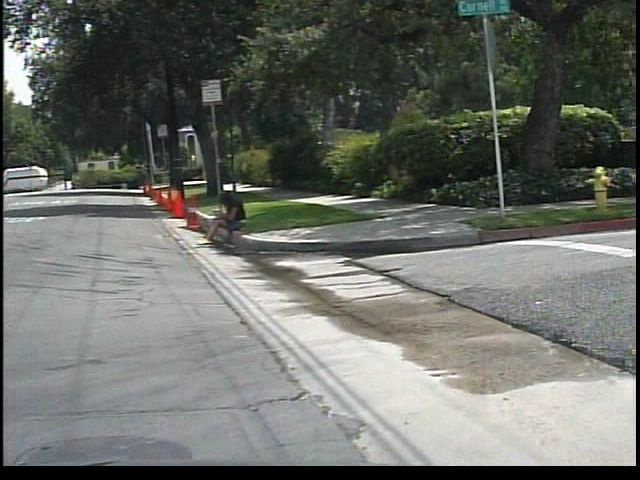person: (202, 190, 259, 247)
